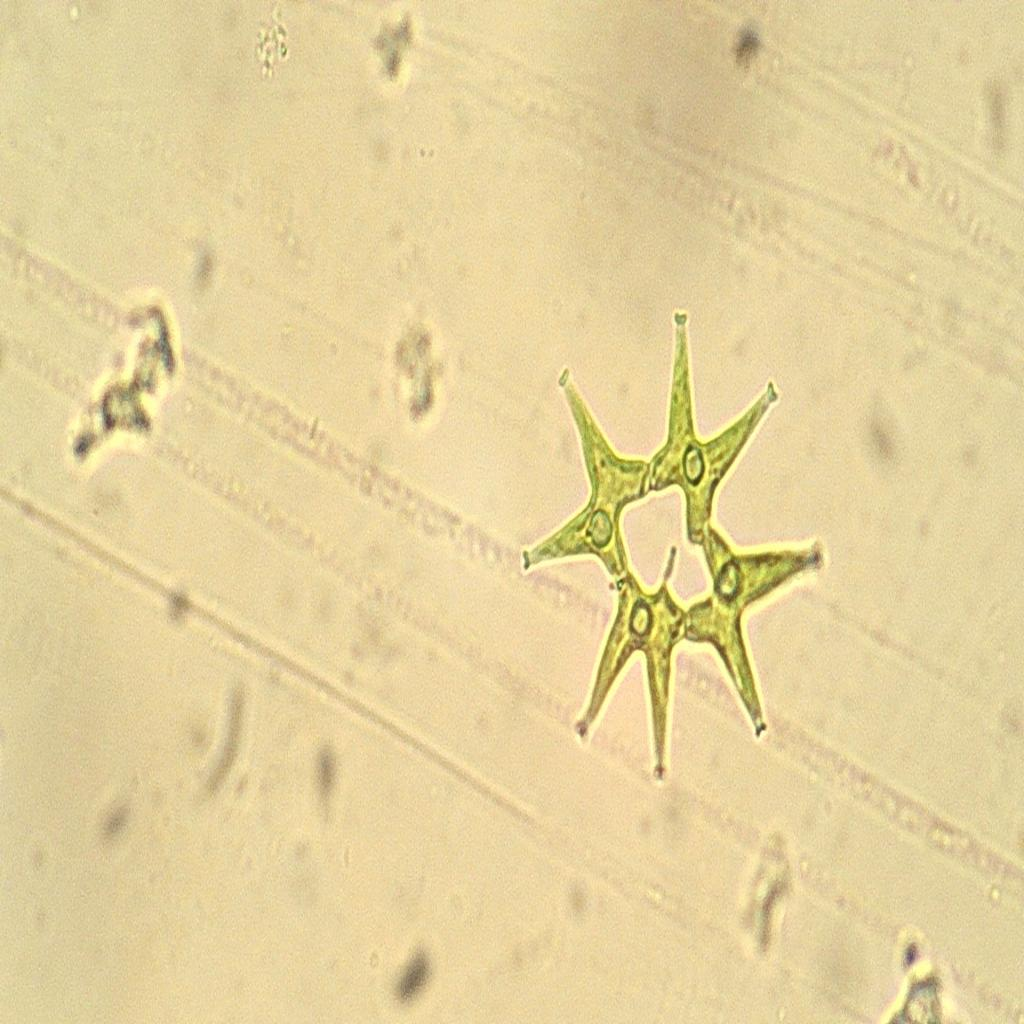Pediastrum_75FO: (512, 300, 836, 802)
